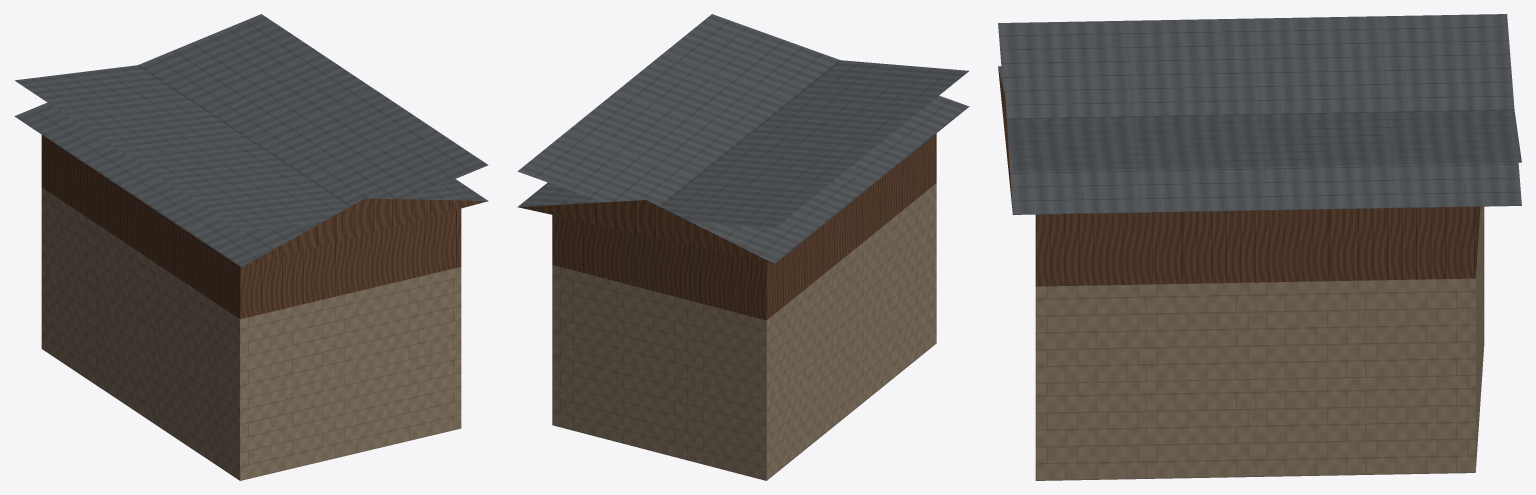
Rendered from bld_c1_10_484.gltf.
3 views of the same model, side by side, from view 1: azimuth 30°, elevation 25°; view 2: azimuth 150°, elevation 25°; view 3: azimuth 270°, elevation 25° (orthographic). The views are drawn at different scales.
Parts seen in each view (by area): view 1: bld_c1_10_484; view 2: bld_c1_10_484; view 3: bld_c1_10_484.
Part boxes in pixels (x1,y1,x2,y2): bld_c1_10_484: (14,14,488,480); bld_c1_10_484: (517,14,969,480); bld_c1_10_484: (998,14,1521,480).
Size of the model in its own units: 7.83 by 7.4 by 10.99.
4 materials, 4 textured.
